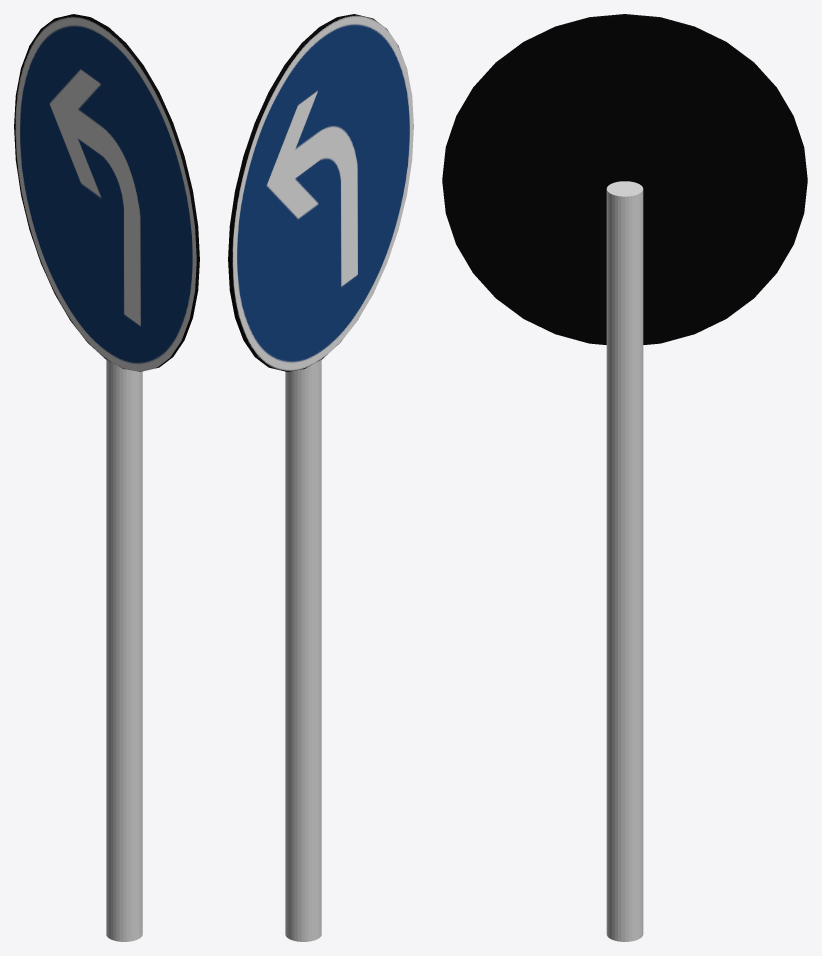
Rendered from turn_left_sign.dae.
The picture shows the model from 3 angles, left to right: view 1: azimuth 30°, elevation 25°; view 2: azimuth 150°, elevation 25°; view 3: azimuth 270°, elevation 25°; orthographic projection.
Visible parts, largest first — view 1: Circle, Cylinder; view 2: Circle, Cylinder; view 3: Circle, Cylinder.
Boxes of the visible parts, left/top/right/bottom form: Circle: left=14, top=14, right=199, bottom=371; Cylinder: left=106, top=360, right=142, bottom=941; Circle: left=228, top=14, right=413, bottom=371; Cylinder: left=285, top=360, right=321, bottom=941; Circle: left=442, top=14, right=807, bottom=344; Cylinder: left=606, top=181, right=643, bottom=941.
Size of the model in its own units: 0.011 by 0.1 by 0.275.
3 materials, 2 textured.
